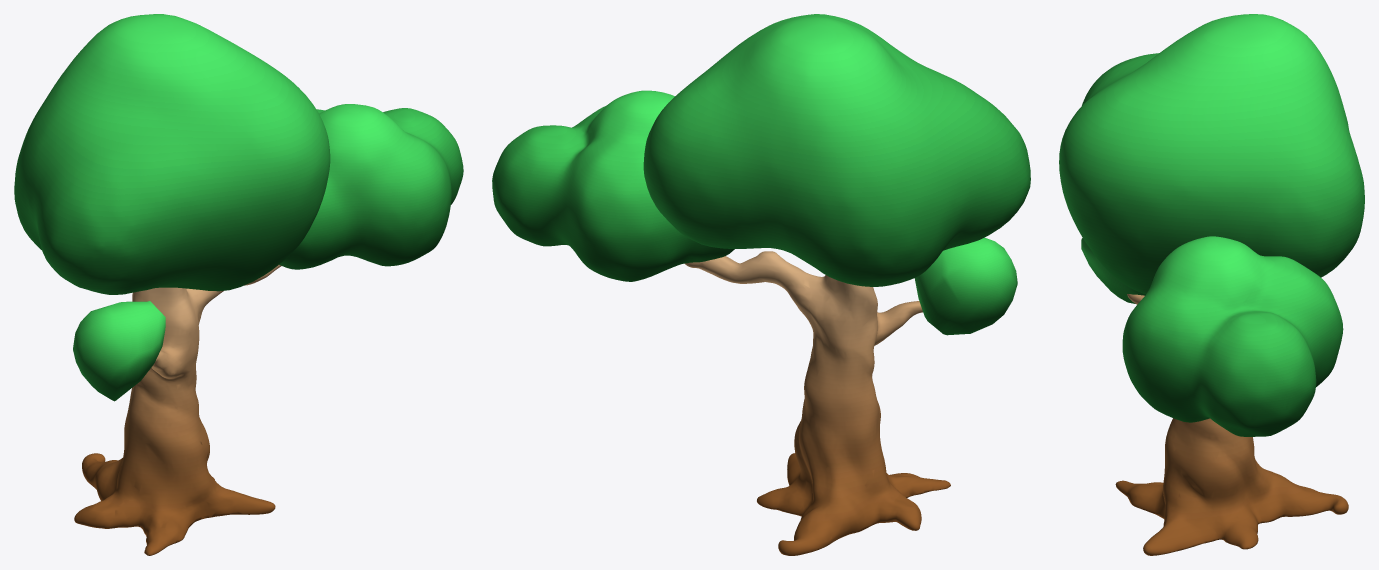
File: Trunk1 B1G1.fbx
The picture shows the model from 3 angles, left to right: view 1: azimuth 30°, elevation 25°; view 2: azimuth 150°, elevation 25°; view 3: azimuth 270°, elevation 25°; orthographic projection. The views are drawn at different scales.
Parts seen in each view (by area): view 1: Trunk1Leaves 3, Trunk1 B1, Trunk1 Leaves1, Trunk1 Leaves2; view 2: Trunk1Leaves 3, Trunk1 B1, Trunk1 Leaves1, Trunk1 Leaves2; view 3: Trunk1Leaves 3, Trunk1 Leaves1, Trunk1 B1, Trunk1 Leaves2.
Part boxes in pixels (x1=…): Trunk1Leaves 3: x1=14, y1=14, x2=330, y2=294; Trunk1 B1: x1=74, y1=265, x2=281, y2=555; Trunk1 Leaves1: x1=279, y1=104, x2=463, y2=269; Trunk1 Leaves2: x1=73, y1=301, x2=165, y2=401; Trunk1Leaves 3: x1=643, y1=14, x2=1030, y2=286; Trunk1 B1: x1=685, y1=251, x2=950, y2=555; Trunk1 Leaves1: x1=492, y1=90, x2=734, y2=281; Trunk1 Leaves2: x1=914, y1=237, x2=1017, y2=335; Trunk1Leaves 3: x1=1059, y1=14, x2=1364, y2=294; Trunk1 Leaves1: x1=1122, y1=236, x2=1343, y2=436; Trunk1 B1: x1=1115, y1=294, x2=1348, y2=555; Trunk1 Leaves2: x1=1081, y1=238, x2=1145, y2=303.
Bounding box in the file's own units: 74.35 × 40.89 × 72.91.
